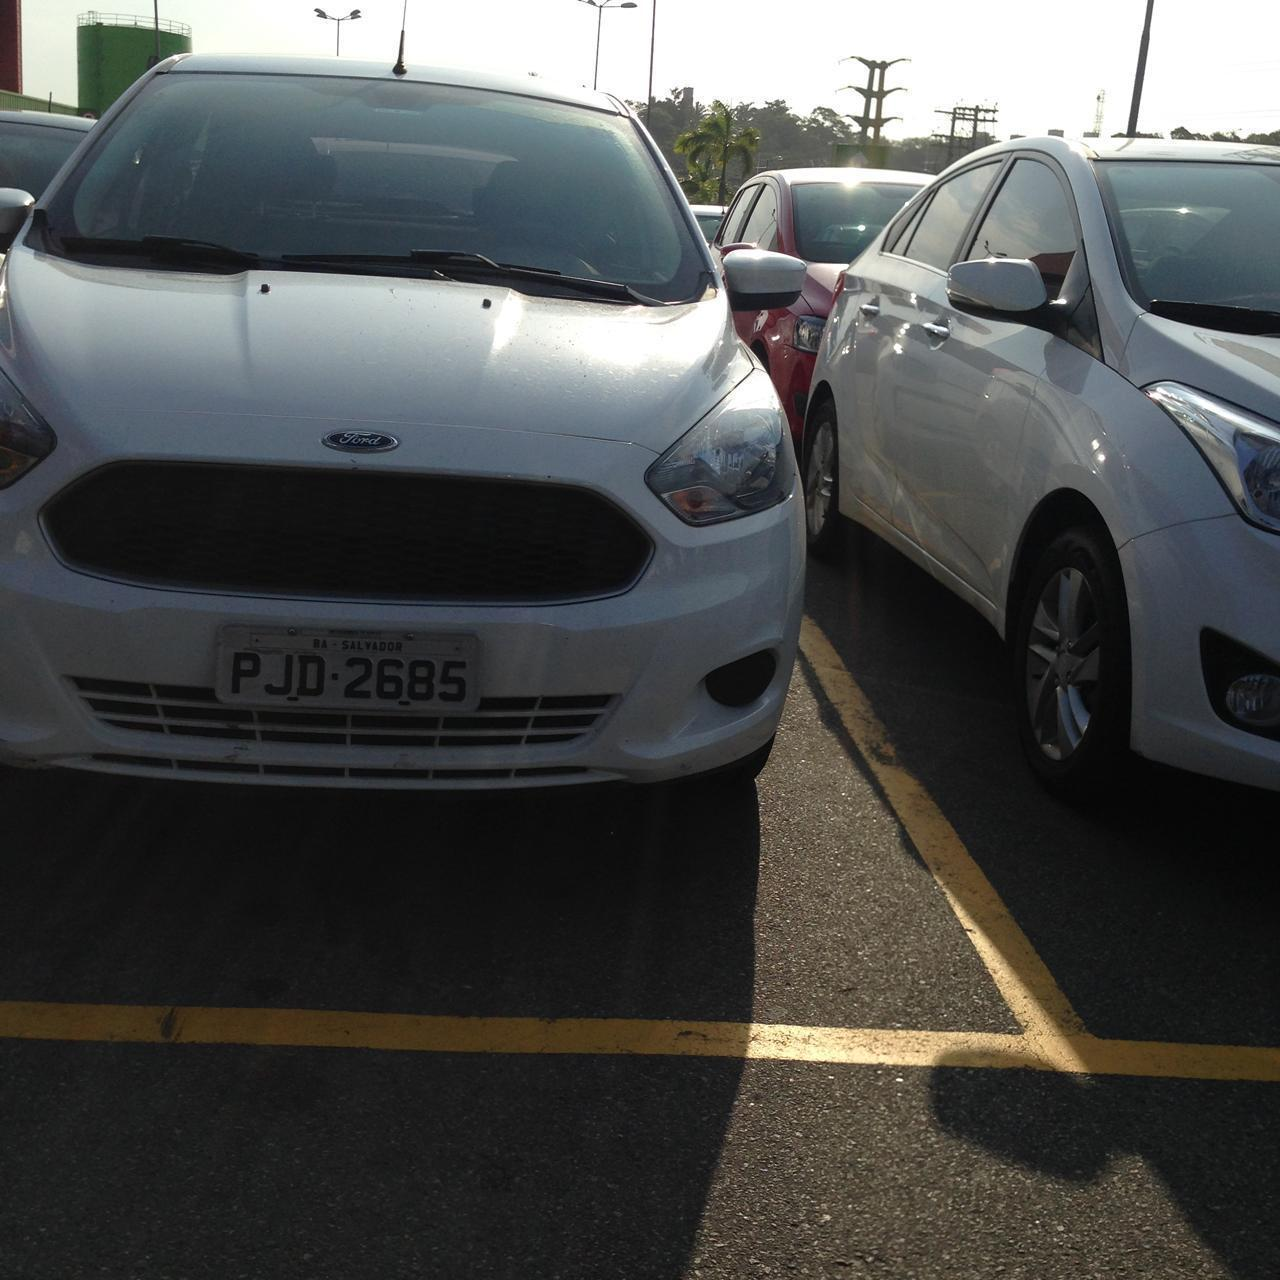placa de veiculo: (194, 612, 520, 742)
